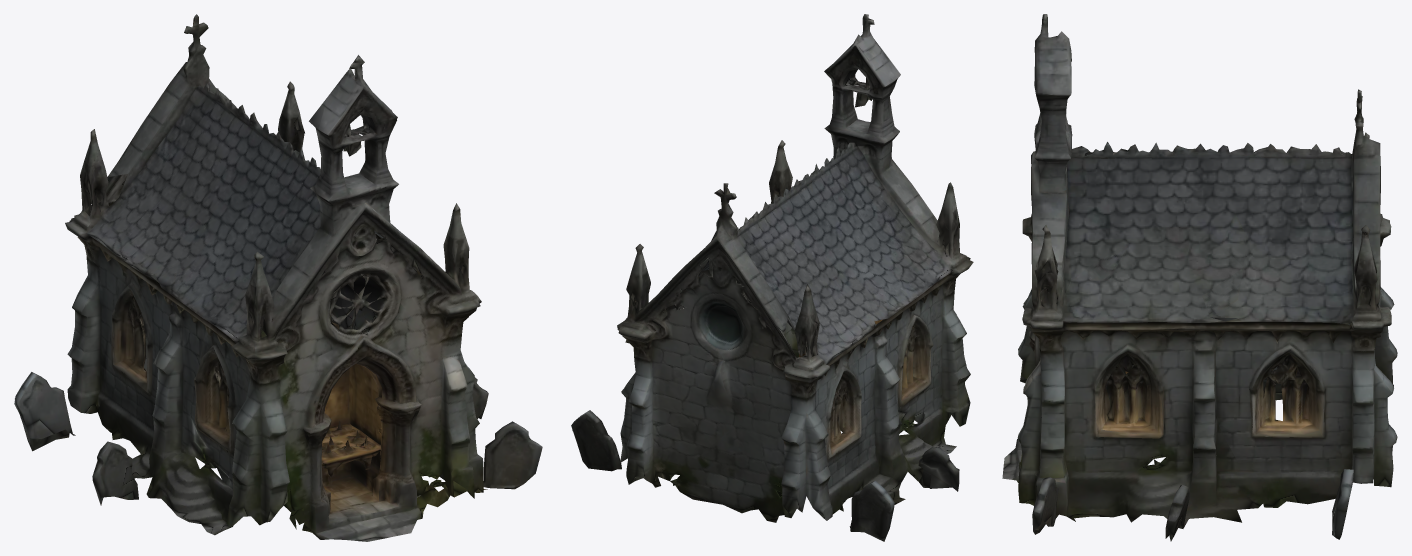
File: cathedral.glb
3 views of the same model, side by side, from view 1: azimuth 30°, elevation 25°; view 2: azimuth 150°, elevation 25°; view 3: azimuth 270°, elevation 25° (orthographic). The views are drawn at different scales.
Parts seen in each view (by area): view 1: geometry_0; view 2: geometry_0; view 3: geometry_0.
Boxes of the visible parts, x1,y1,x2,y2 form: geometry_0: (14,14,542,541); geometry_0: (571,14,973,541); geometry_0: (1002,14,1397,541).
Size of the model in its own units: 0.8465 by 0.9887 by 0.7854.
Materials: 1 (1 with a texture image).
